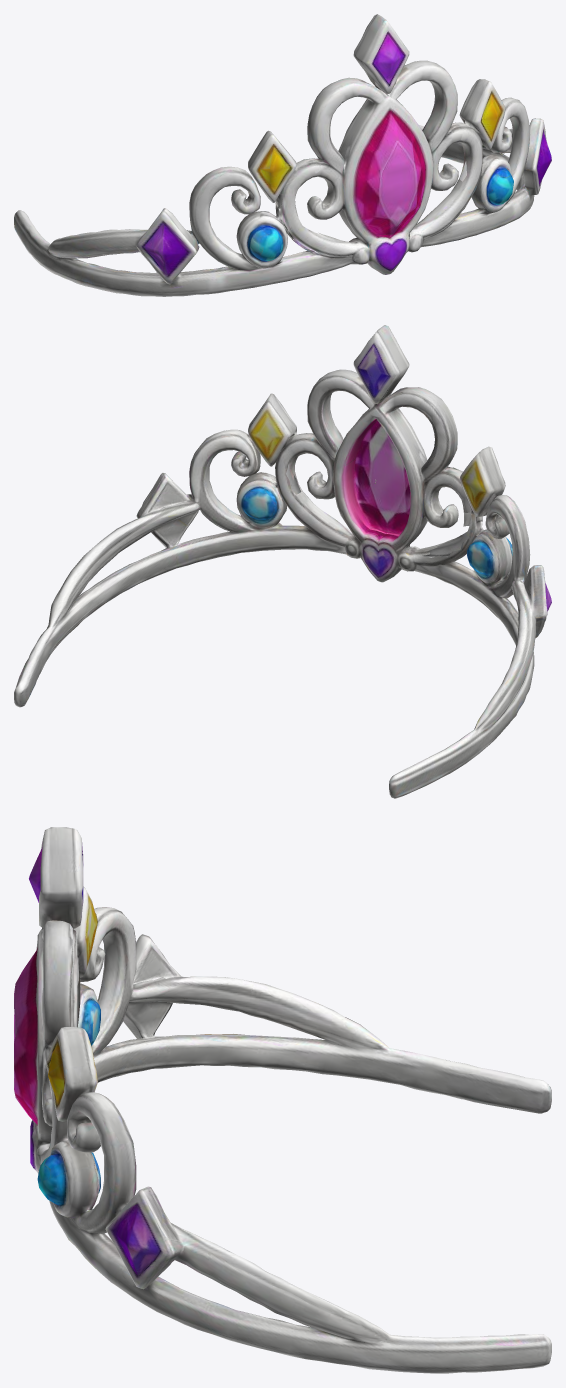
3 renders of one model, top to bottom at view 1: azimuth 30°, elevation 25°; view 2: azimuth 150°, elevation 25°; view 3: azimuth 270°, elevation 25°, orthographic. The views are drawn at different scales.
Bounding box in the file's own units: 1.91 × 1.21 × 1.43.
1 material, 1 textured.
